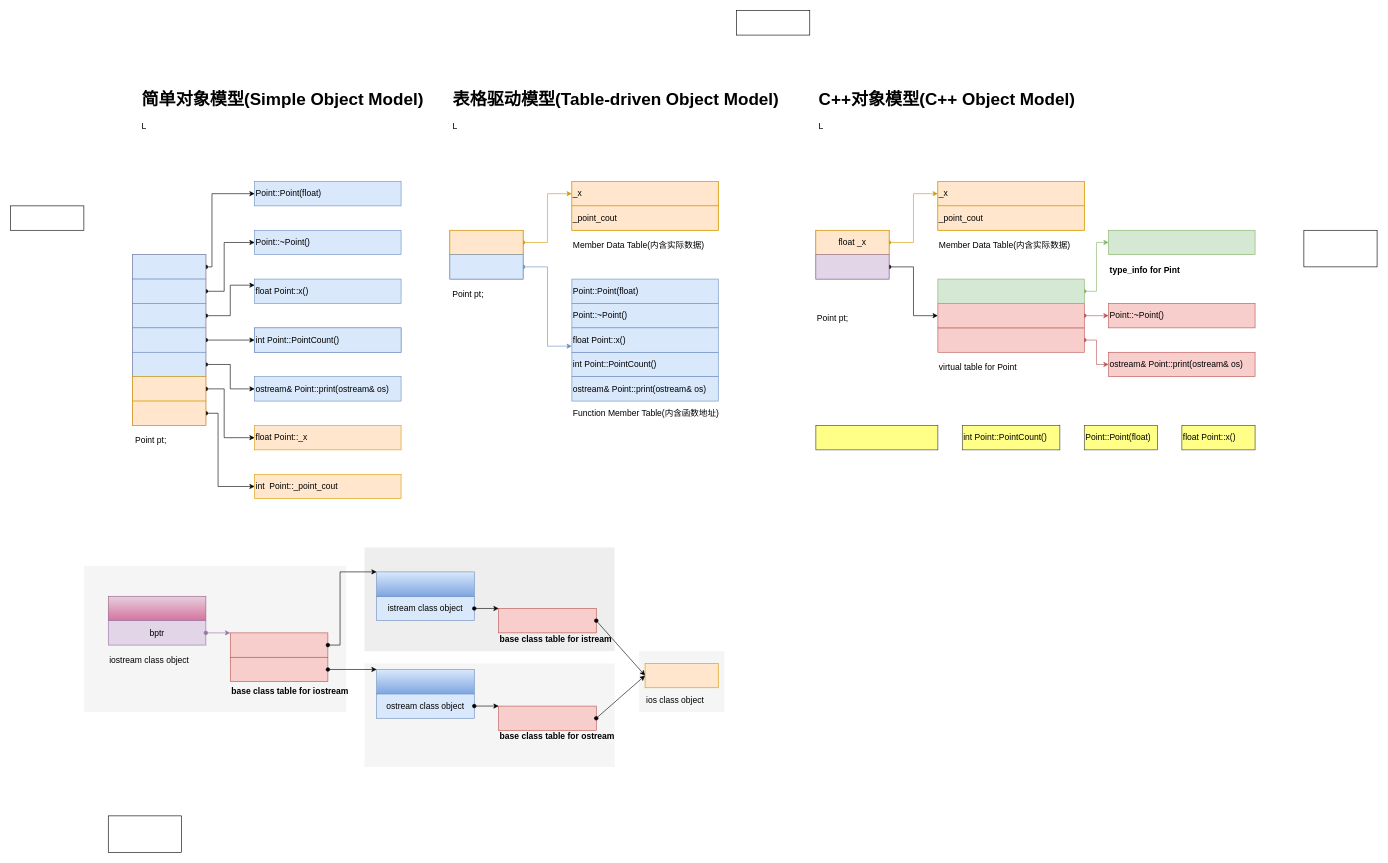
Image size: 1388x863. Some labels were removed from this diagram. The centre of each missing label's shape, as x and y in pixels:
__vptr__Point: point 852,266
static int Point::_point_cout: point 876,437
